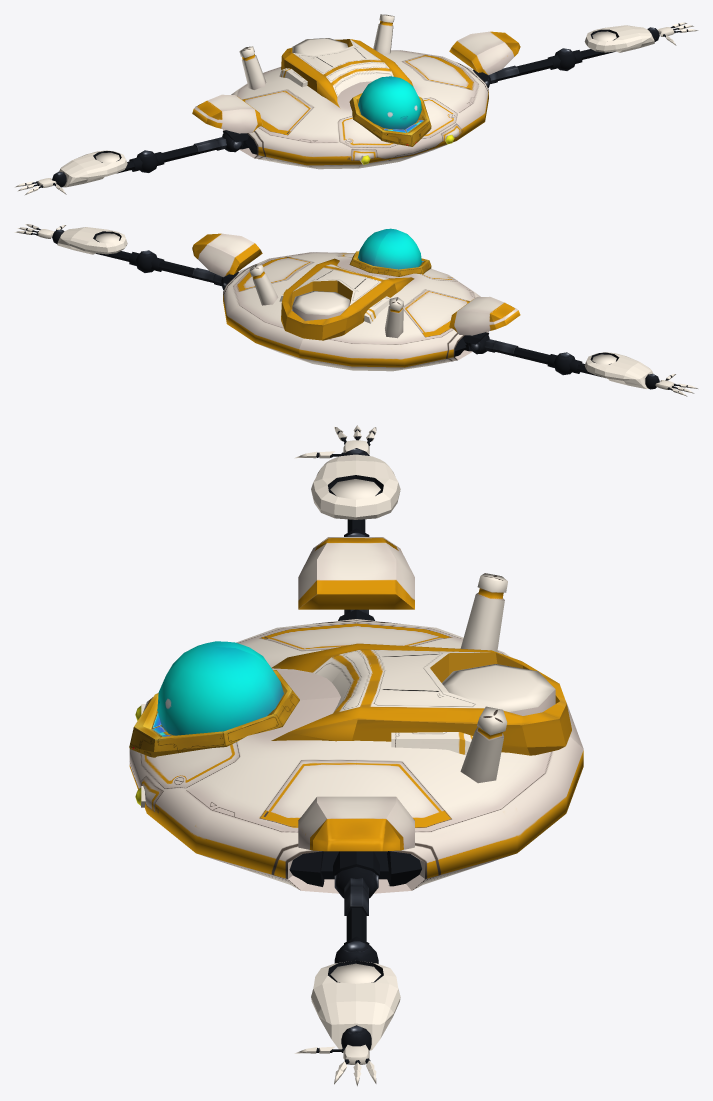
File: robot.fbx
3 views of the same model, one above another, from view 1: azimuth 30°, elevation 25°; view 2: azimuth 150°, elevation 25°; view 3: azimuth 270°, elevation 25° (orthographic). The views are drawn at different scales.
Parts seen in each view (by area): view 1: Body, Parts001, Shoulder, Character, Right_arm003, Left_arm003, Cockpit, Right_arm002, Left_arm002, Parts003, Hasira_right, Hasira_left (+2 smaller); view 2: Body, Parts001, Shoulder, Right_arm003, Left_arm003, Character, Parts003, Right_arm002, Left_arm002, Cockpit, Hasira_left, Hasira_right (+3 smaller); view 3: Body, Parts001, Shoulder, Character, Left_arm003, Right_arm003, Parts003, Cockpit, Left_arm001, Hasira_right, Hasira_left, Left_arm002 (+1 smaller).
Part boxes in pixels (x1,y1,x2,y2): Body: [223, 50, 488, 169]; Parts001: [281, 39, 413, 107]; Shoulder: [192, 31, 520, 133]; Character: [358, 76, 421, 129]; Right_arm003: [59, 150, 158, 187]; Left_arm003: [555, 25, 654, 70]; Cockpit: [349, 93, 431, 146]; Right_arm002: [154, 132, 243, 165]; Left_arm002: [485, 55, 560, 87]; Parts003: [292, 38, 348, 55]; Hasira_right: [239, 46, 266, 89]; Hasira_left: [373, 14, 394, 54]; Body: [223, 252, 488, 371]; Parts001: [281, 258, 414, 340]; Shoulder: [192, 233, 520, 335]; Right_arm003: [553, 352, 653, 389]; Left_arm003: [57, 227, 156, 272]; Character: [358, 228, 421, 269]; Parts003: [292, 291, 349, 320]; Right_arm002: [468, 334, 557, 367]; Left_arm002: [151, 257, 226, 289]; Cockpit: [349, 251, 431, 276]; Hasira_left: [249, 264, 278, 305]; Hasira_right: [385, 297, 403, 338]; Body: [129, 619, 583, 893]; Parts001: [271, 643, 571, 755]; Shoulder: [298, 537, 414, 851]; Character: [157, 641, 283, 735]; Left_arm003: [311, 940, 400, 1050]; Right_arm003: [311, 454, 400, 536]; Parts003: [442, 664, 555, 715]; Cockpit: [129, 670, 299, 757]; Left_arm001: [289, 851, 421, 886]; Hasira_right: [460, 573, 507, 651]; Hasira_left: [460, 706, 507, 783]; Left_arm002: [334, 867, 378, 944].
Bounding box in the file's own units: 533 × 59.05 × 155.
Materials: 4 (4 with a texture image).
